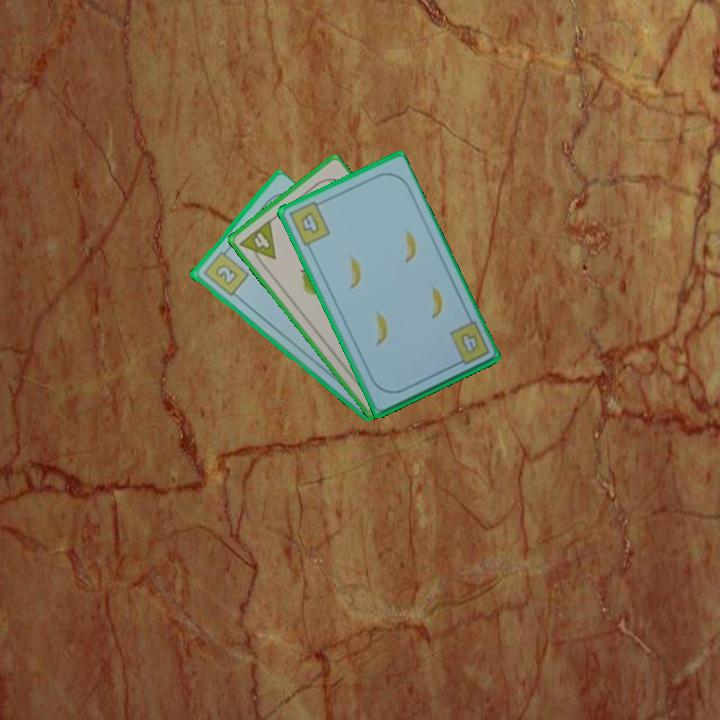2b: (199, 244, 251, 299)
4b: (285, 197, 333, 249), (446, 318, 492, 369)
4p: (236, 216, 279, 270)
